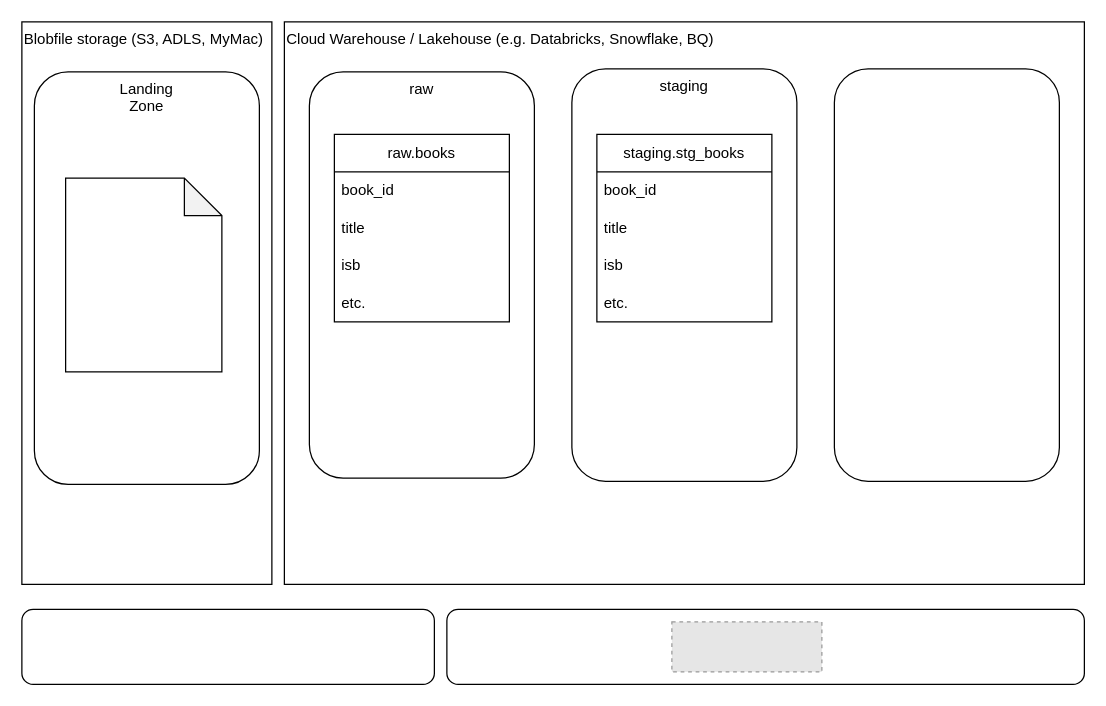
Image size: 1106x706. Some labels were removed from this diagram. Grey dashed boxes stand in for pictures. The shapes that lost their labels are listed below. From the top down, each one's centre as x and y in pixels, then its label:
(143,274): books.json reviews.json interactons.json
(946,274): presentation fact_books fact_reviews dim_authors dim_date ...
